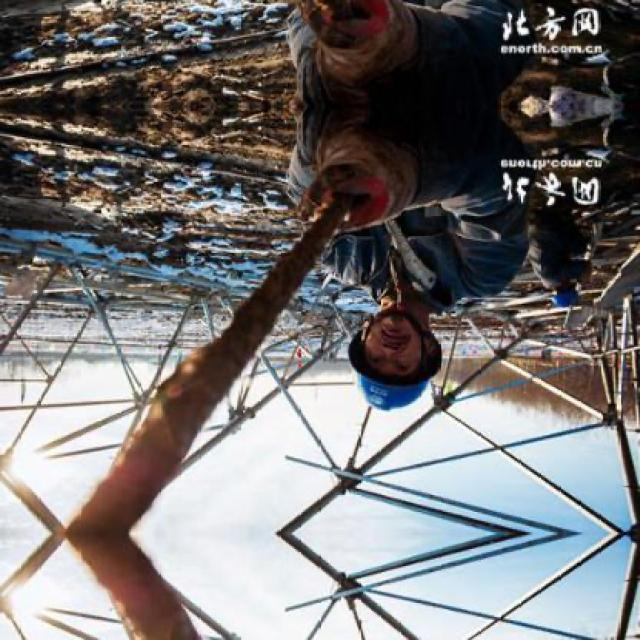con casco: (320, 258, 473, 423)
